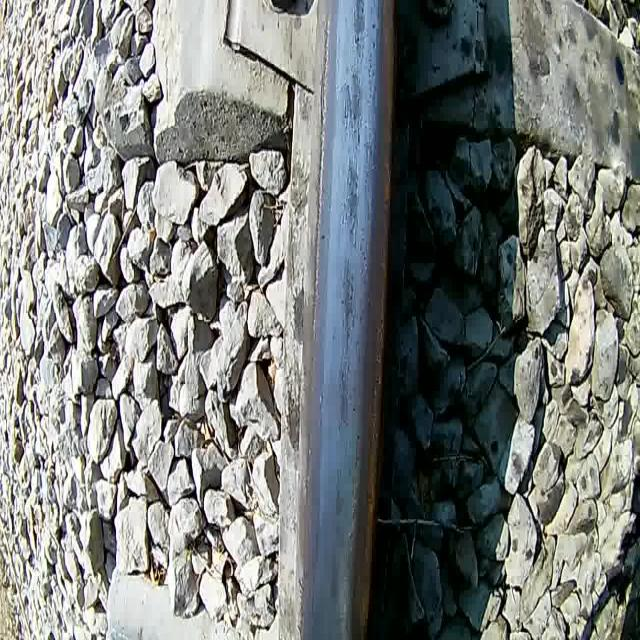Cracks: (342, 250, 356, 304), (342, 82, 356, 135), (346, 153, 361, 201), (349, 207, 359, 252), (357, 106, 362, 148)
Squats: (331, 343, 362, 438), (334, 254, 363, 344), (340, 154, 363, 251), (324, 522, 349, 605), (340, 73, 366, 149), (348, 0, 368, 69), (330, 463, 350, 522)
